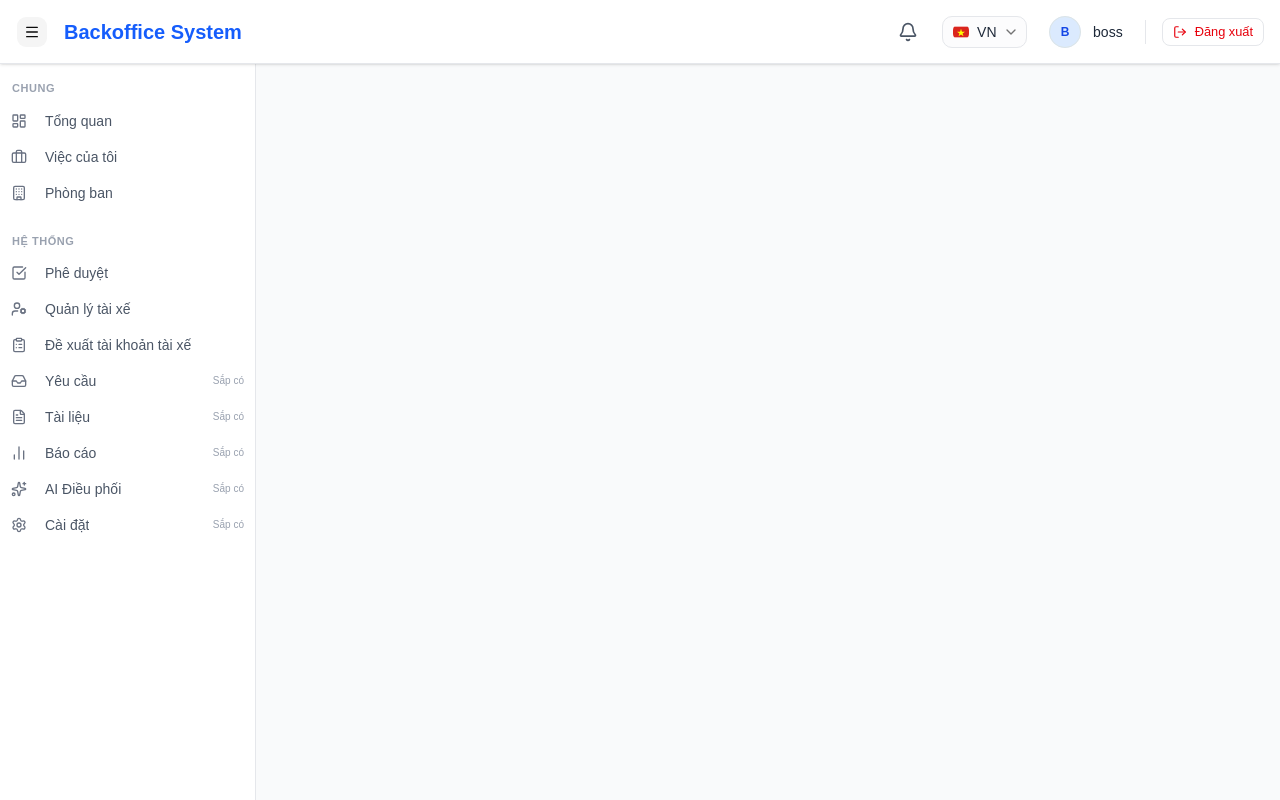
Test: MainLayout › the completion bell › says so when there is nothing to show, and still offers the queue
Click the button named "thông báo" at (908, 32), box x1=890 y1=14 x2=926 y2=50
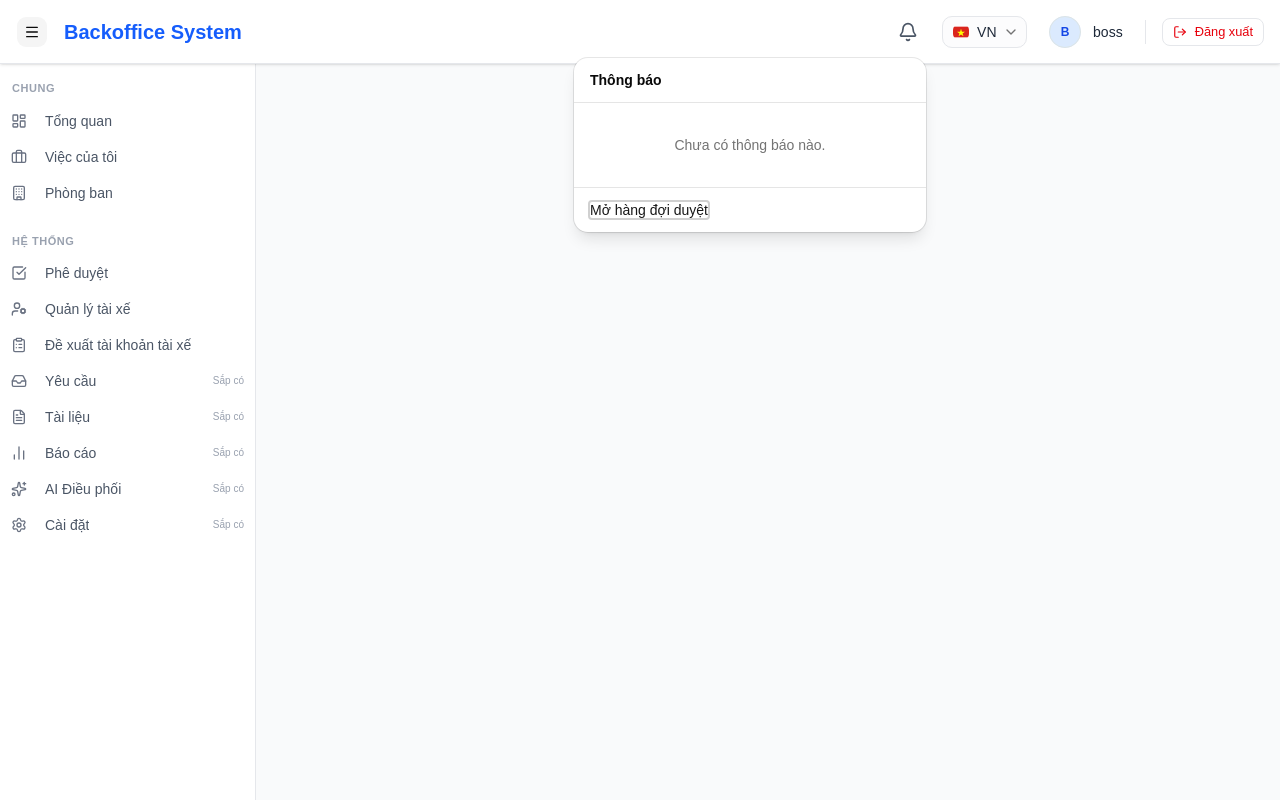
Check: the text "Chưa có thông báo nào." is shown, box x1=674 y1=137 x2=826 y2=153
